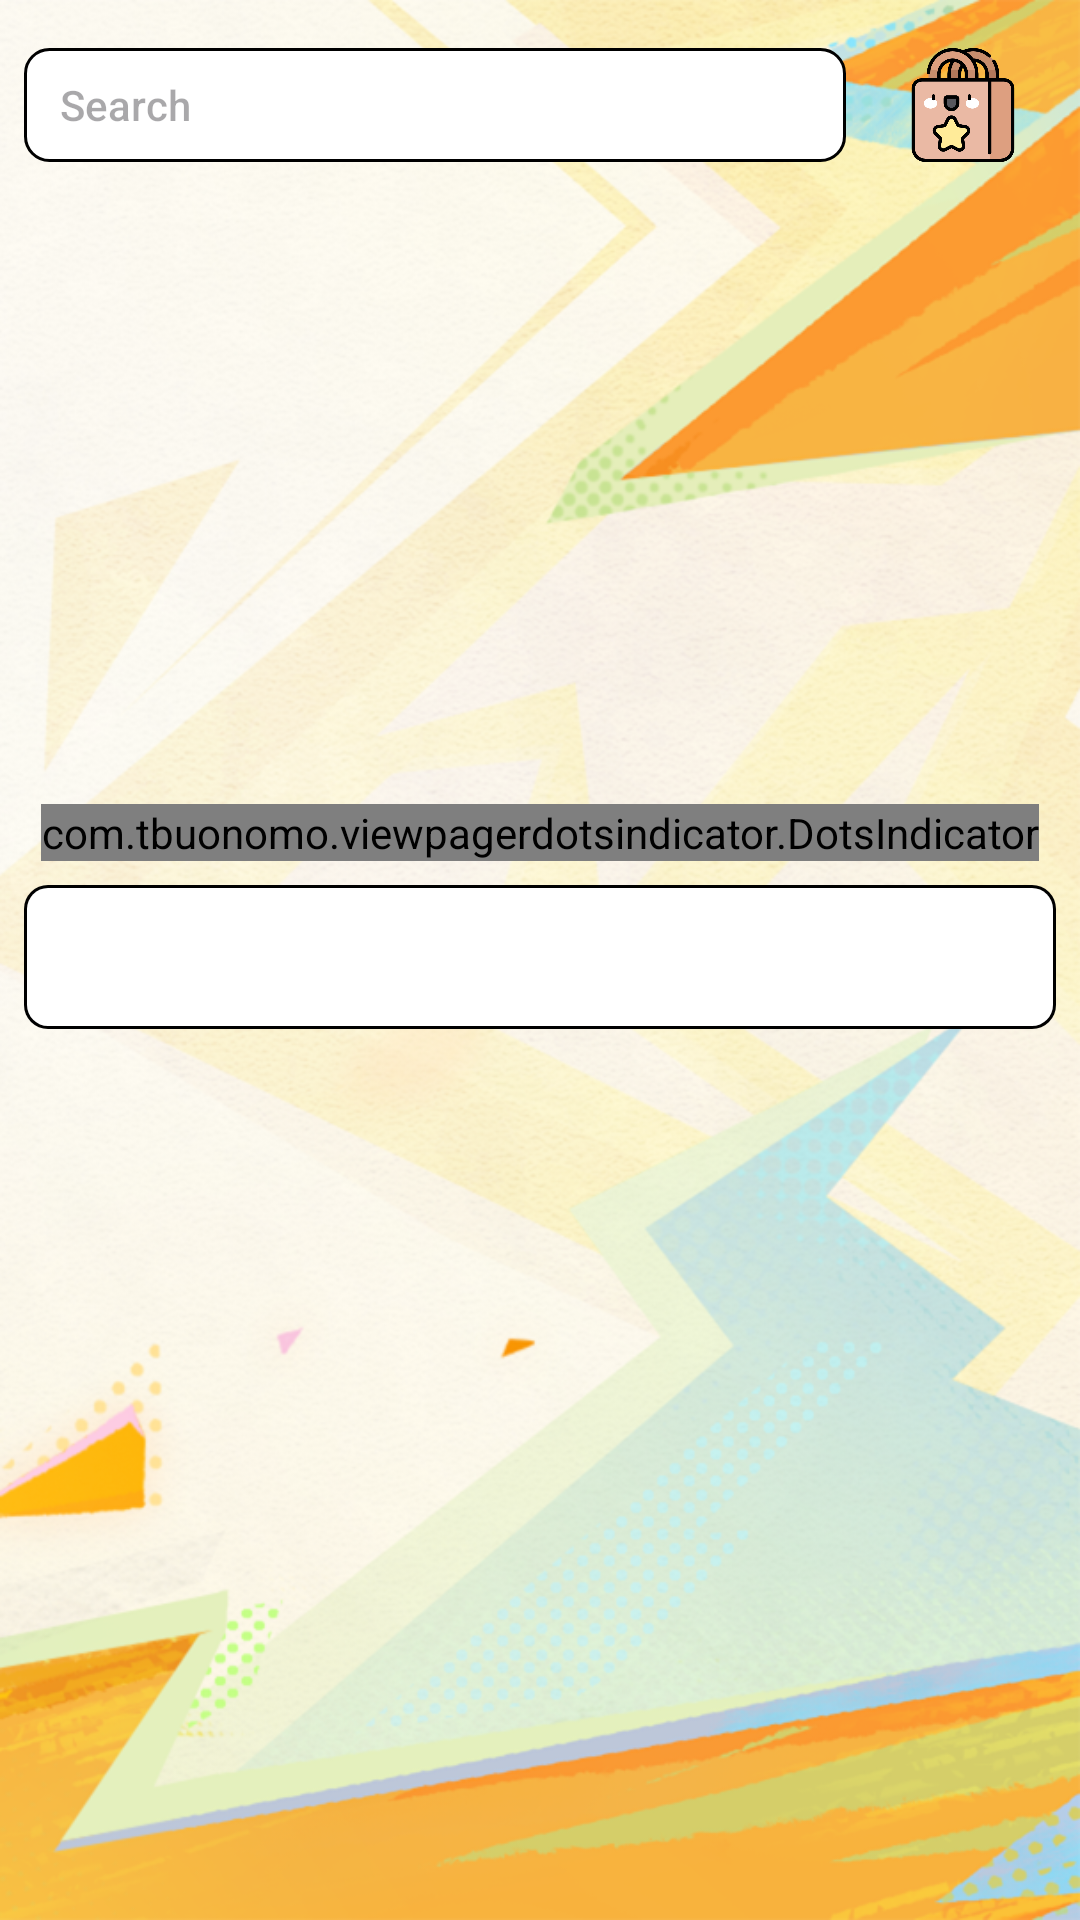

Where to tap for icons on this 1080×1920 app screen, as (x=x, y=y):
Shopping Cart: (x=963, y=105)
